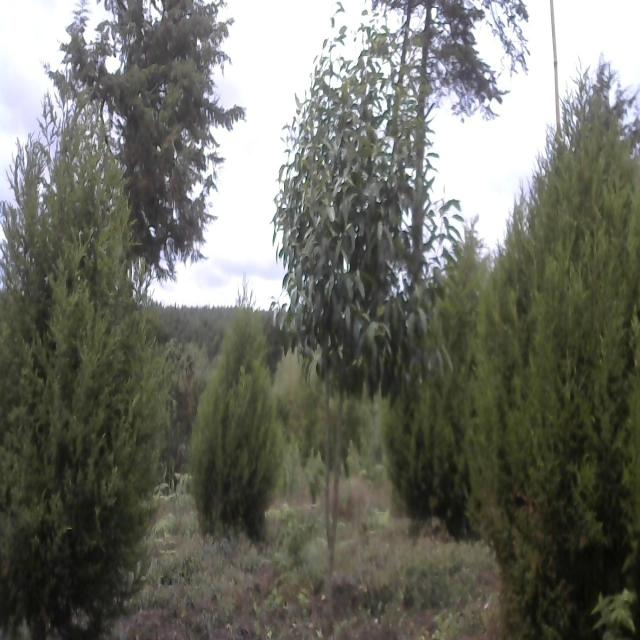Juniperus procesera: (470, 77, 640, 628), (0, 86, 167, 636), (51, 0, 238, 273), (379, 226, 498, 533), (189, 279, 290, 557)
Olea welwitchii: (270, 5, 420, 619)
